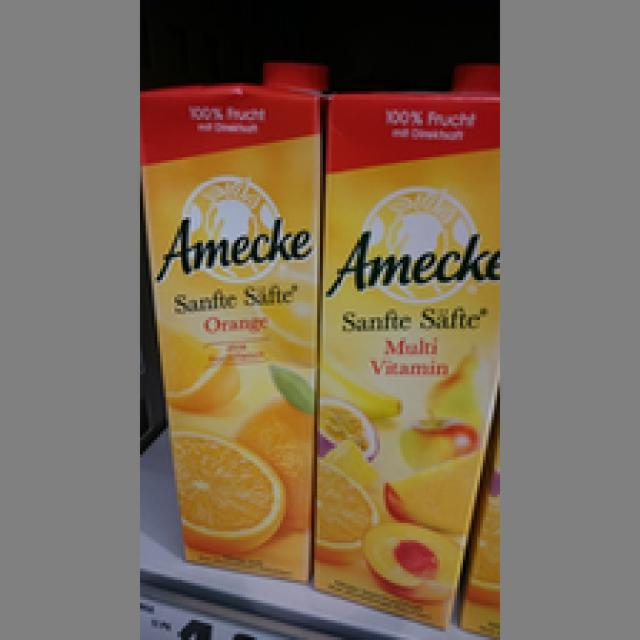groceries: (311, 65, 500, 626), (137, 66, 314, 580)
